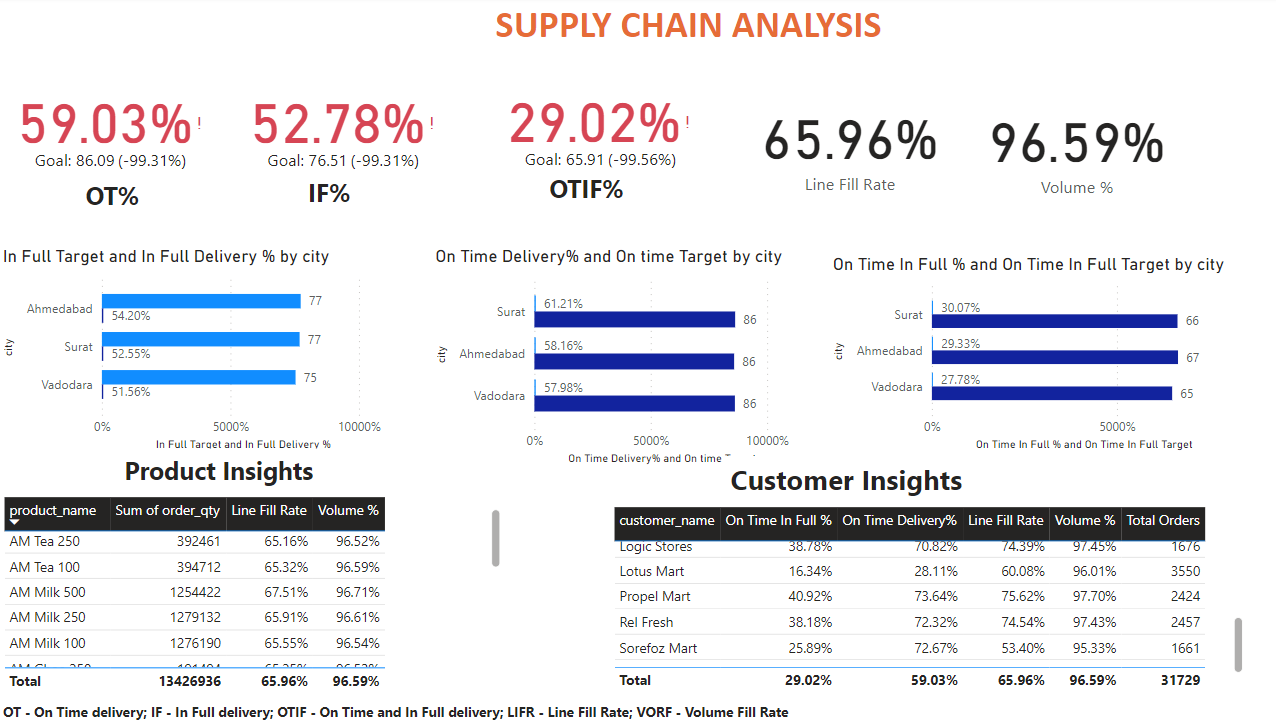

Layout of this report page (visuals, bound fields, positions):
{"tool":"powerbi","page":{"name":"Page 1","canvas":[1280,720],"ordinal":0},"visuals":[{"type":"card","fields":{"Values":["Key Measures (2).Volume %"]},"box":[945,97,221,102],"z":0},{"type":"textbox","box":[482,0,482,59],"z":1000},{"type":"kpi","fields":{"Indicator":["Key Measures (2).On Time Delivery%"],"TrendLine":["fact_order_line.customer_id"],"Goal":["Key Measures (2).On time Target"]},"box":[17,97,186,76],"z":2000},{"type":"kpi","fields":{"Indicator":["Key Measures (2).In Full Delivery %"],"Goal":["Key Measures (2).In Full Target"],"TrendLine":["fact_order_line.customer_id"]},"box":[248,97,179,76],"z":3000},{"type":"kpi","fields":{"Indicator":["Key Measures (2).On Time In Full %"],"Goal":["Key Measures (2).On Time In Full Target"],"TrendLine":["fact_order_line.customer_id"]},"box":[496,95,186,76],"z":4000},{"type":"card","fields":{"Values":["Key Measures (2).Line Fill Rate"]},"box":[723,95,222,99],"z":5000},{"type":"clusteredBarChart","fields":{"Category":["dim_customers.city"],"Y":["Key Measures (2).In Full Target","Key Measures (2).In Full Delivery %"]},"box":[0,245,406,205],"z":6000},{"type":"clusteredBarChart","fields":{"Category":["dim_customers.city"],"Y":["Key Measures (2).On Time Delivery%","Key Measures (2).On time Target"]},"box":[423,245,379,219],"z":7000},{"type":"clusteredBarChart","fields":{"Category":["dim_customers.city"],"Y":["Key Measures (2).On Time In Full %","Key Measures (2).On Time In Full Target"]},"box":[812,252,423,198],"z":8000},{"type":"tableEx","fields":{"Values":["dim_products.product_name","Sum(fact_order_line.order_qty)","Key Measures (2).Line Fill Rate","Key Measures (2).Volume %"]},"box":[0,485,496,201],"z":8001},{"type":"tableEx","fields":{"Values":["dim_customers.customer_name","Key Measures (2).On Time In Full %","Key Measures (2).On Time Delivery%","Key Measures (2).Line Fill Rate","Key Measures (2).Volume %","Key Measures (2).Total Orders"]},"box":[596,495,626,191],"z":8002},{"type":"textbox","box":[119,443,209,42],"z":8004},{"type":"textbox","box":[711,450,291,45],"z":8006},{"type":"textbox","box":[0,686,1067,34],"z":8007},{"type":"textbox","box":[81,173,80,47],"z":8008},{"type":"textbox","box":[298,171,82,49],"z":8009},{"type":"textbox","box":[534,167,98,53],"z":8010}]}

Visuals, with their boxes in screenshot pixels (x1, y1, x2, y2), scaled from the page's 1280x720 canvas onto the 1276x727 screenshot:
card - Key Measures (2).Volume %: <region>942, 98, 1162, 201</region>
textbox: <region>480, 0, 961, 60</region>
kpi - Key Measures (2).On Time Delivery% x fact_order_line.customer_id: <region>17, 98, 202, 175</region>
kpi - Key Measures (2).In Full Delivery % x Key Measures (2).In Full Target: <region>247, 98, 426, 175</region>
kpi - Key Measures (2).On Time In Full % x Key Measures (2).On Time In Full Target: <region>494, 96, 680, 173</region>
card - Key Measures (2).Line Fill Rate: <region>721, 96, 942, 196</region>
clusteredBarChart - dim_customers.city x Key Measures (2).In Full Target: <region>0, 247, 405, 454</region>
clusteredBarChart - dim_customers.city x Key Measures (2).On Time Delivery%: <region>422, 247, 799, 469</region>
clusteredBarChart - dim_customers.city x Key Measures (2).On Time In Full %: <region>809, 254, 1231, 454</region>
tableEx - dim_products.product_name x Sum(fact_order_line.order_qty): <region>0, 490, 494, 693</region>
tableEx - dim_customers.customer_name x Key Measures (2).On Time In Full %: <region>594, 500, 1218, 693</region>
textbox: <region>119, 447, 327, 490</region>
textbox: <region>709, 454, 999, 500</region>
textbox: <region>0, 693, 1064, 726</region>
textbox: <region>81, 175, 160, 222</region>
textbox: <region>297, 173, 379, 222</region>
textbox: <region>532, 169, 630, 222</region>
